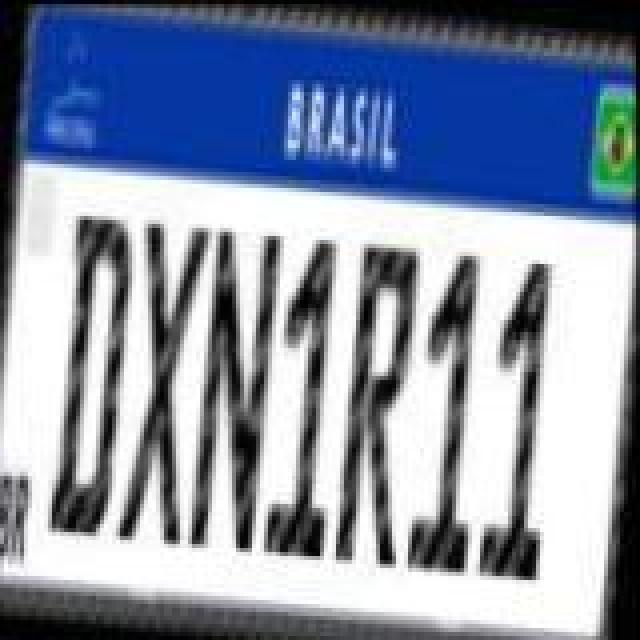1: (472, 250, 576, 586), (258, 230, 358, 562), (402, 246, 502, 578)
D: (44, 212, 144, 544)
N: (186, 222, 286, 554)
R: (330, 236, 430, 568)
X: (114, 212, 214, 548)
